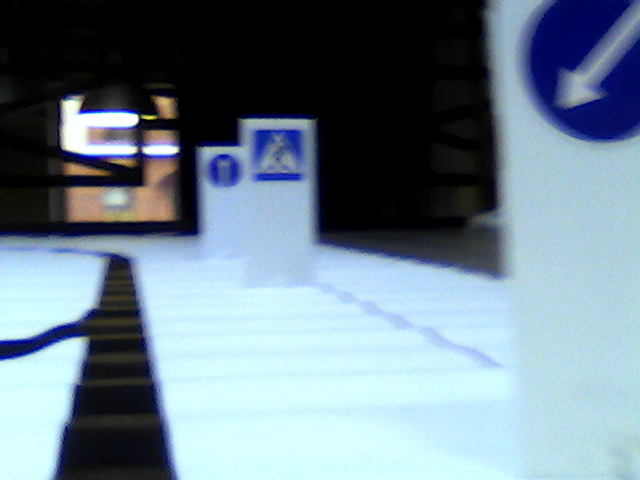pesh: (253, 128, 304, 178)
prep: (517, 1, 639, 149)
